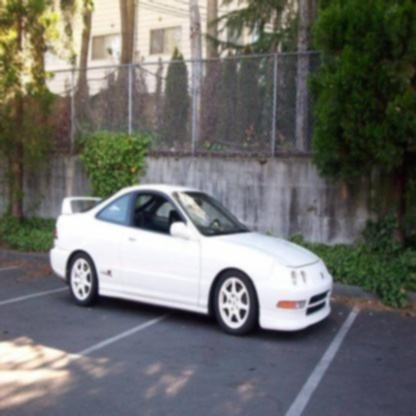Vehicle: (51, 184, 331, 340)
